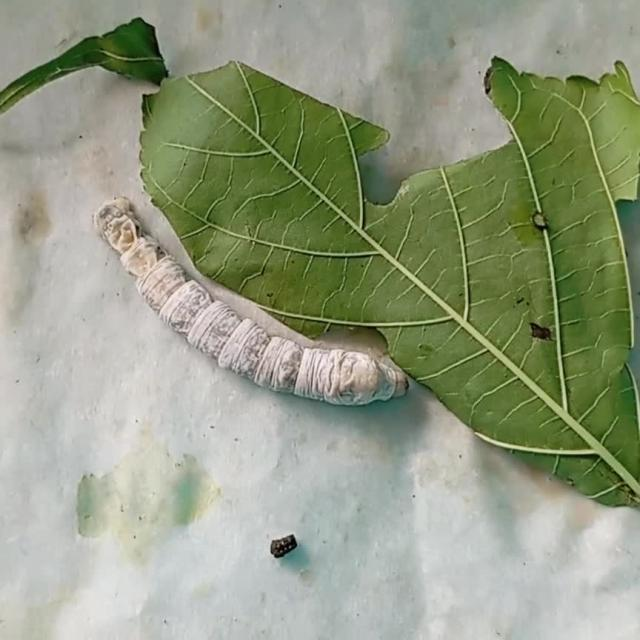Grasserie: (84, 186, 420, 418)
